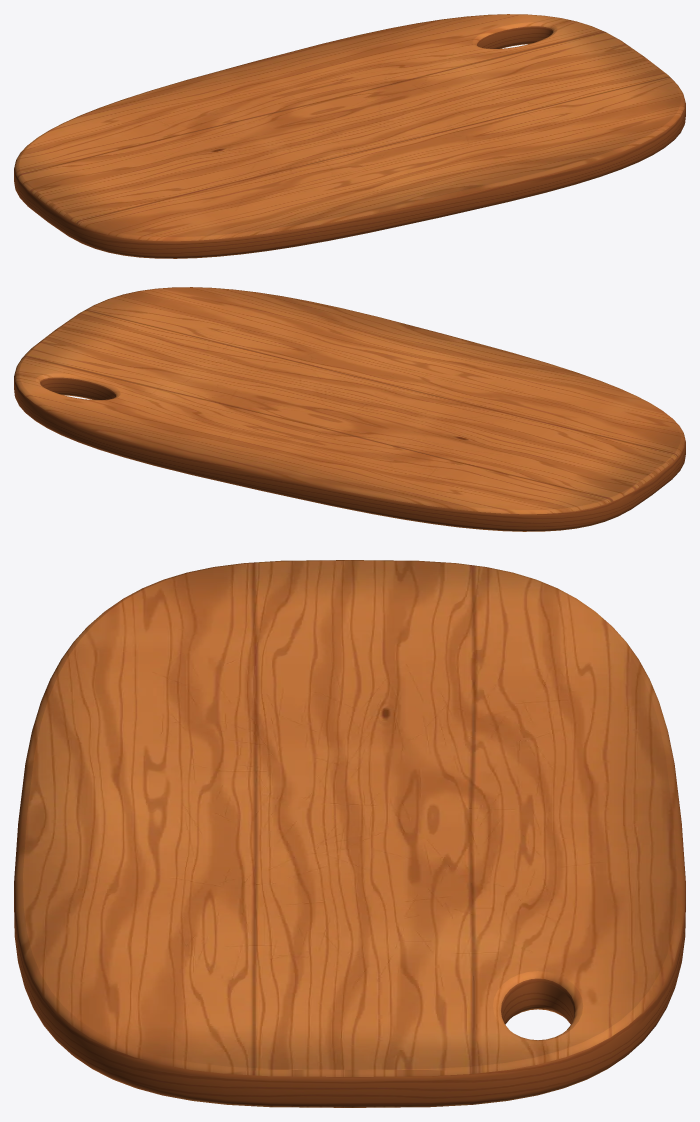
File: cutboard.glb
The picture shows the model from 3 angles, top to bottom: view 1: azimuth 30°, elevation 25°; view 2: azimuth 150°, elevation 25°; view 3: azimuth 270°, elevation 25°; orthographic projection. The views are drawn at different scales.
Visible parts, largest first — view 1: CutBoard; view 2: CutBoard; view 3: CutBoard.
Boxes of the visible parts, box(x1,y1,x2,y2) form: CutBoard: box(14, 14, 685, 258); CutBoard: box(14, 287, 685, 531); CutBoard: box(14, 560, 685, 1107).
Bounding box in the file's own units: 1.62 × 0.055 × 0.893.
1 material, 1 textured.
